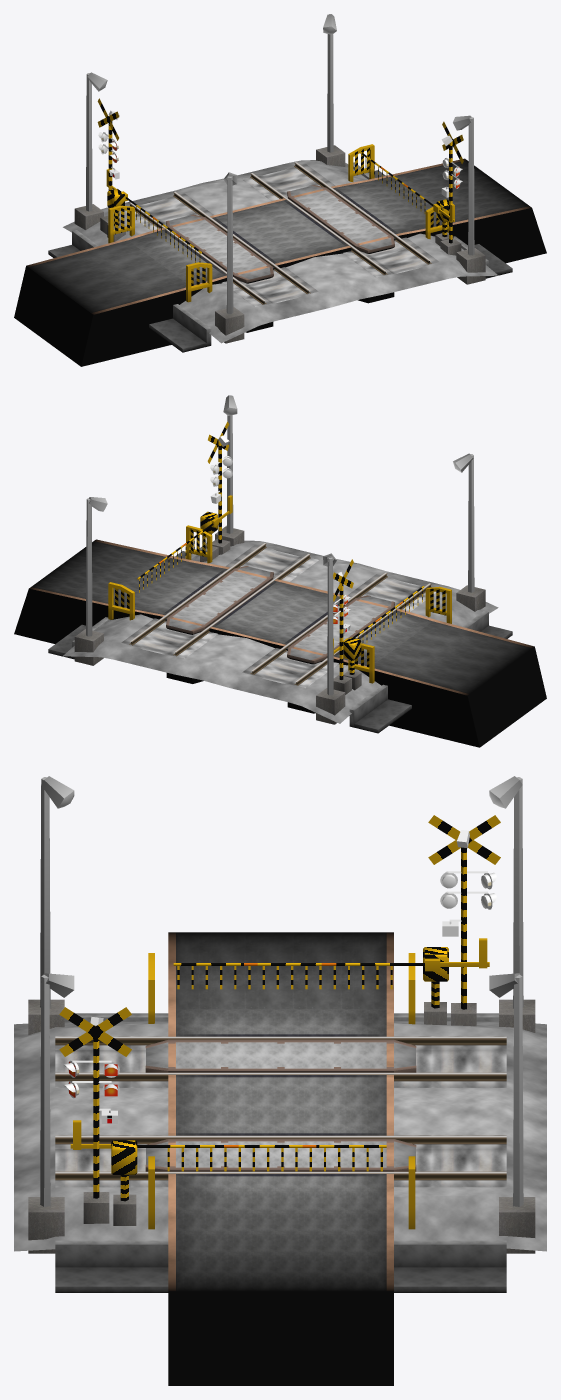
Rendered from HT_2RAIL_HUMIKIRI25.glb.
3 views of the same model, one above another, from view 1: azimuth 30°, elevation 25°; view 2: azimuth 150°, elevation 25°; view 3: azimuth 270°, elevation 25° (orthographic). The views are drawn at different scales.
Visible parts, largest first — view 1: obj3, bone8, bone0, BODY (×2); view 2: obj3, bone0, bone8, BODY (×2); view 3: obj3, BODY (×2), bone0, bone8, BAR4 (×2), OBI4 (×2).
Part boxes in pixels (x1,y1,x2,y2): obj3: [14, 158, 546, 366]; bone8: [186, 115, 485, 343]; bone0: [74, 14, 374, 243]; BODY (×2): [97, 98, 463, 255]; obj3: [14, 539, 546, 747]; bone0: [74, 497, 374, 724]; bone8: [186, 395, 485, 623]; BODY (×2): [200, 421, 361, 694]; obj3: [14, 932, 546, 1385]; BODY (×2): [59, 815, 500, 1225]; bone0: [408, 776, 535, 1253]; bone8: [28, 776, 154, 1253]; BAR4 (×2): [70, 938, 489, 1149]; OBI4 (×2): [167, 966, 392, 1171].
Bounding box in the file's own units: 50 × 19.59 × 29.53.
40 materials, 37 textured.
